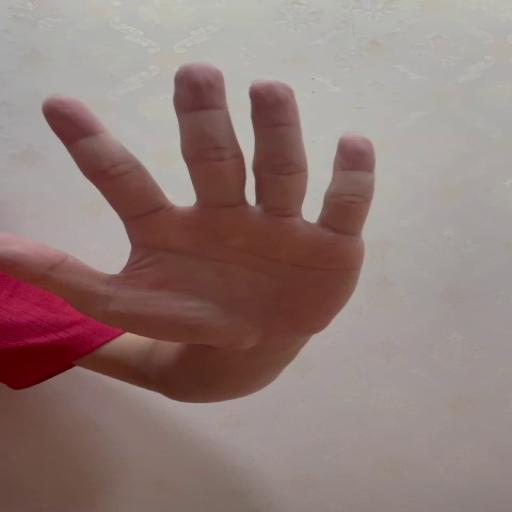open_palm: (0, 61, 378, 348)
